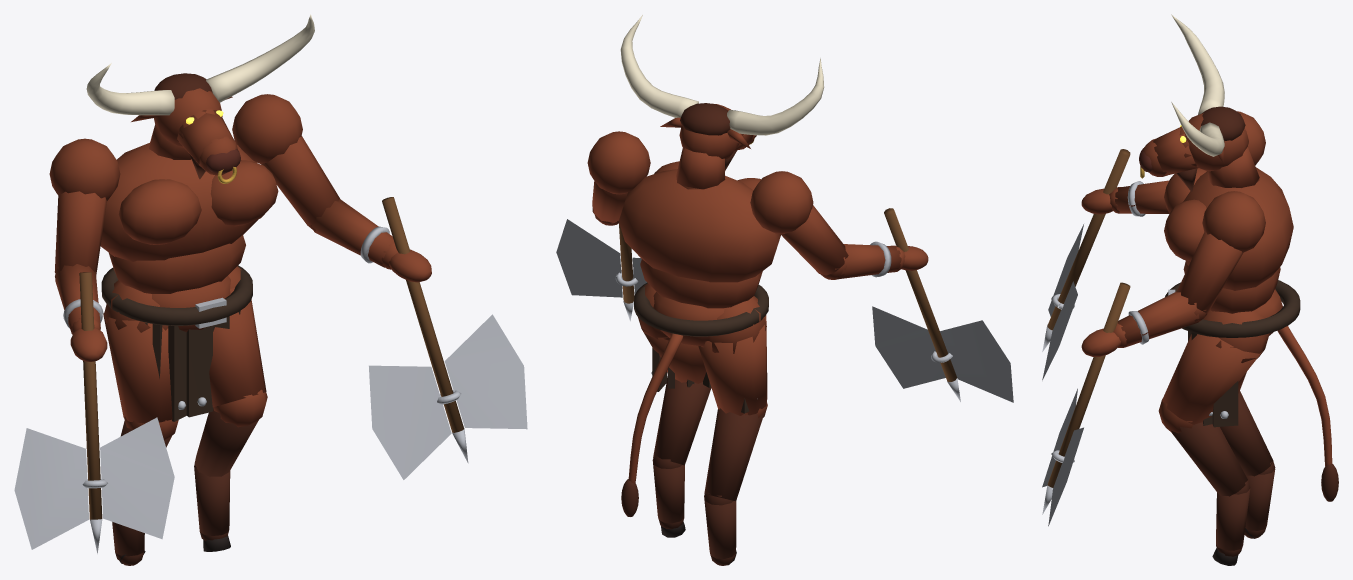
The model's file is minotaur.glb.
The picture shows the model from 3 angles, left to right: view 1: azimuth 30°, elevation 25°; view 2: azimuth 150°, elevation 25°; view 3: azimuth 270°, elevation 25°; orthographic projection. The views are drawn at different scales.
Visible parts, largest first — view 1: torso, hand_R, hand_L, head, pelvis, upperarm_L, upperarm_R, thigh_R, thigh_L, shin_L, forearm_L, forearm_R (+1 smaller); view 2: torso, hand_R, head, thigh_R, shin_R, upperarm_R, shin_L, hand_L, pelvis, upperarm_L, tail, forearm_R (+1 smaller); view 3: torso, head, thigh_L, upperarm_L, shin_L, hand_L, hand_R, pelvis, shin_R, forearm_L, tail, forearm_R (+1 smaller).
Part boxes in pixels (x1,y1,x2,y2): torso: (100, 124, 278, 293); hand_R: (14, 272, 174, 553); hand_L: (369, 197, 527, 479); head: (86, 14, 314, 183); pelvis: (101, 265, 252, 421); upperarm_L: (232, 94, 339, 229); upperarm_R: (49, 138, 120, 275); thigh_R: (103, 280, 178, 440); thigh_L: (209, 266, 267, 427); shin_L: (194, 408, 258, 541); forearm_L: (308, 198, 398, 269); forearm_R: (55, 264, 103, 334); torso: (618, 148, 780, 308); hand_R: (872, 208, 1013, 402); head: (620, 15, 824, 170); thigh_R: (698, 296, 767, 417); shin_R: (704, 408, 764, 565); upperarm_R: (750, 171, 848, 279); shin_L: (652, 376, 711, 529); hand_L: (556, 219, 646, 321); pelvis: (634, 282, 768, 413); upperarm_L: (587, 131, 650, 224); tail: (621, 333, 682, 516); forearm_R: (819, 241, 905, 279); torso: (1164, 147, 1293, 313); head: (1139, 14, 1248, 191); thigh_L: (1158, 310, 1269, 433); upperarm_L: (1177, 191, 1265, 320); shin_L: (1171, 422, 1250, 556); hand_L: (1042, 282, 1130, 526); hand_R: (1042, 149, 1130, 380); pelvis: (1165, 280, 1300, 427); shin_R: (1220, 391, 1275, 538); forearm_L: (1113, 291, 1206, 347); tail: (1277, 326, 1338, 501); forearm_R: (1109, 180, 1169, 216).
Bounding box in the file's own units: 2.97 × 3.08 × 1.67.
